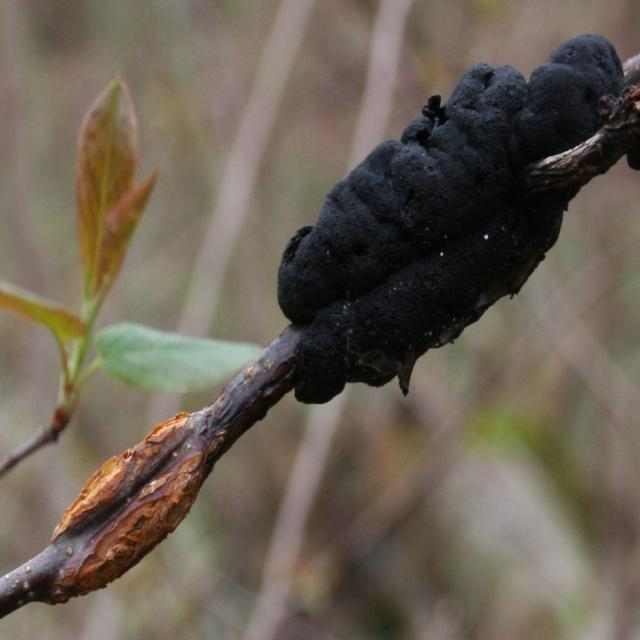Black_knot: (275, 32, 630, 404)
